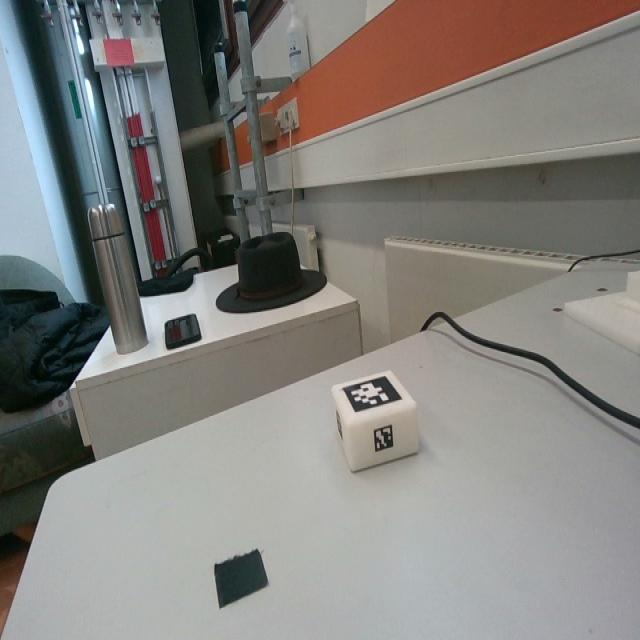Cube: (331, 367, 417, 472)
